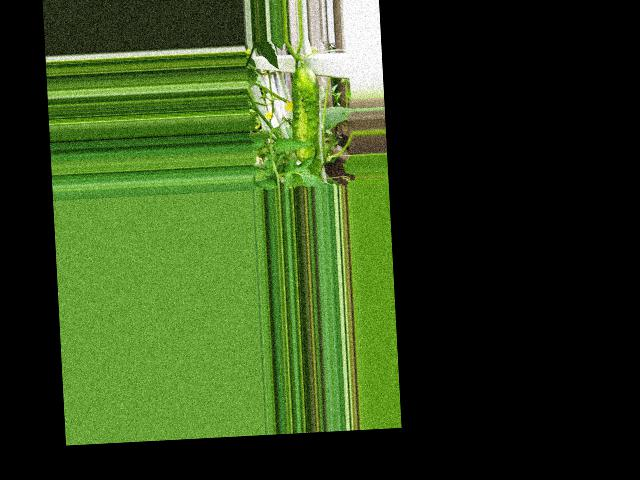cucumber: (290, 64, 322, 161)
